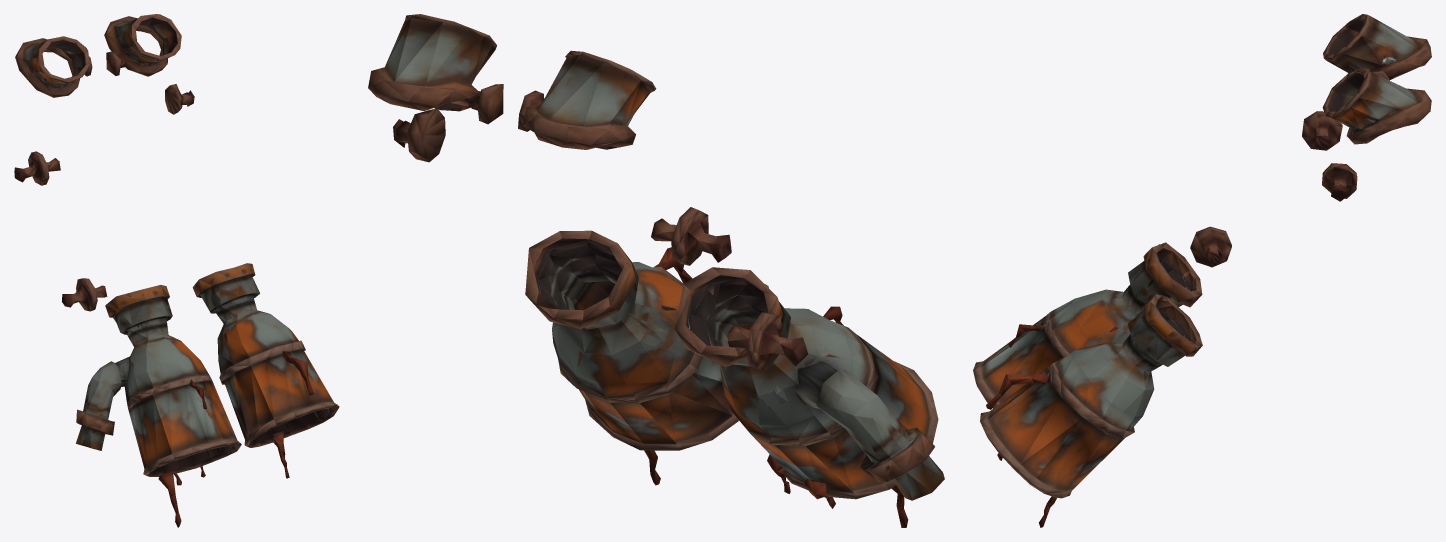
Rendered from tail_stacks.glb.
3 views of the same model, side by side, from view 1: azimuth 30°, elevation 25°; view 2: azimuth 150°, elevation 25°; view 3: azimuth 270°, elevation 25° (orthographic). The views are drawn at different scales.
Parts seen in each view (by area): view 1: tripo_node_818071b2-ec77-4103-8ae6-2578d4c0c1ae; view 2: tripo_node_818071b2-ec77-4103-8ae6-2578d4c0c1ae; view 3: tripo_node_818071b2-ec77-4103-8ae6-2578d4c0c1ae.
Part boxes in pixels (bbox=[...]): tripo_node_818071b2-ec77-4103-8ae6-2578d4c0c1ae: bbox=[14, 14, 339, 527]; tripo_node_818071b2-ec77-4103-8ae6-2578d4c0c1ae: bbox=[368, 14, 944, 527]; tripo_node_818071b2-ec77-4103-8ae6-2578d4c0c1ae: bbox=[973, 14, 1431, 527].
Bounding box in the file's own units: 0.6417 × 0.9992 × 0.907.
Materials: 1 (1 with a texture image).
